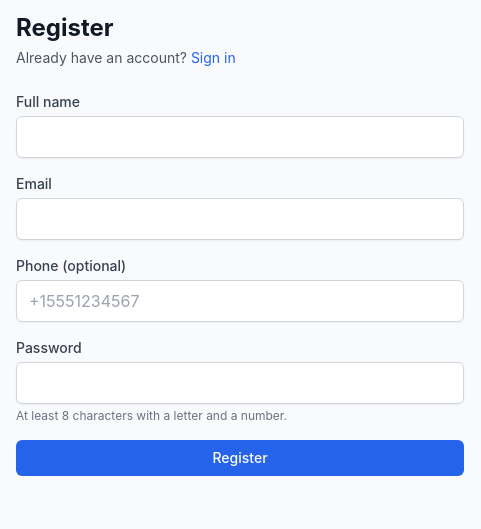
Scenario: register page › shows the backend error when registration is rejected
Type "Asha Example" into the field labelled "Full name" at (240,137), box x1=16 y1=116 x2=464 y2=158
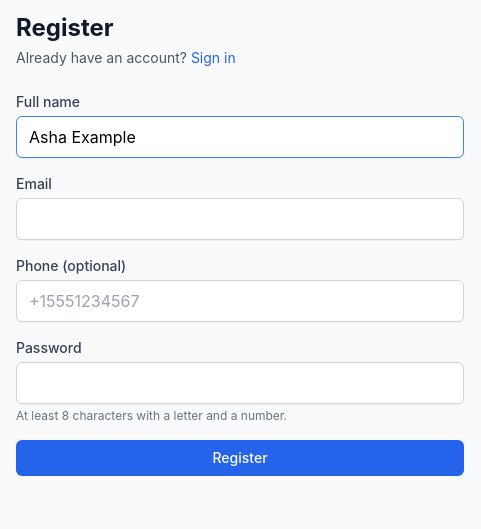
Type "asha@example.com" into the field labelled "Email" at (240,219), box x1=16 y1=198 x2=464 y2=240
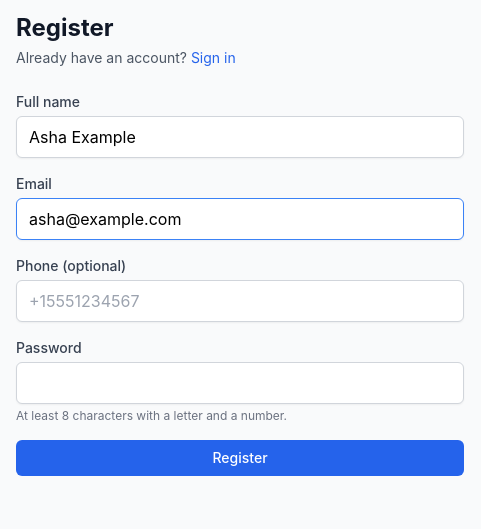
Type "Secret123" into the password field labelled "Password" at (240,383), box x1=16 y1=362 x2=464 y2=404
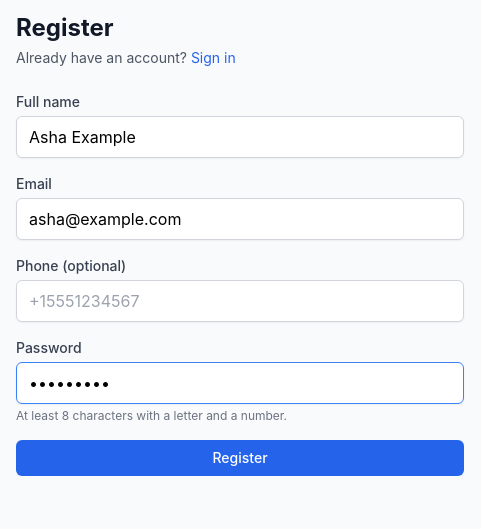
Click the button "Register" at (240,458), box x1=16 y1=440 x2=464 y2=476
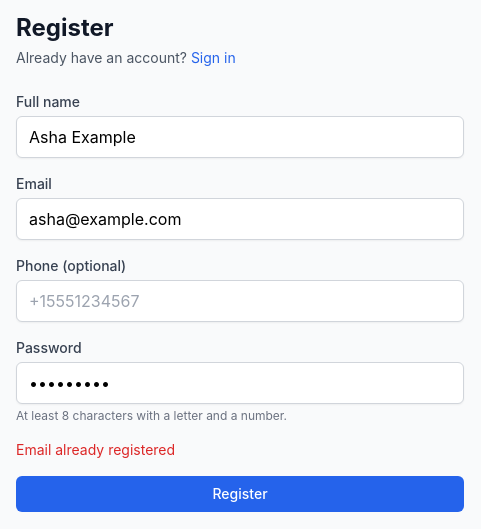
Expected: the message reads "Email already registered", x1=16 y1=441 x2=175 y2=458
